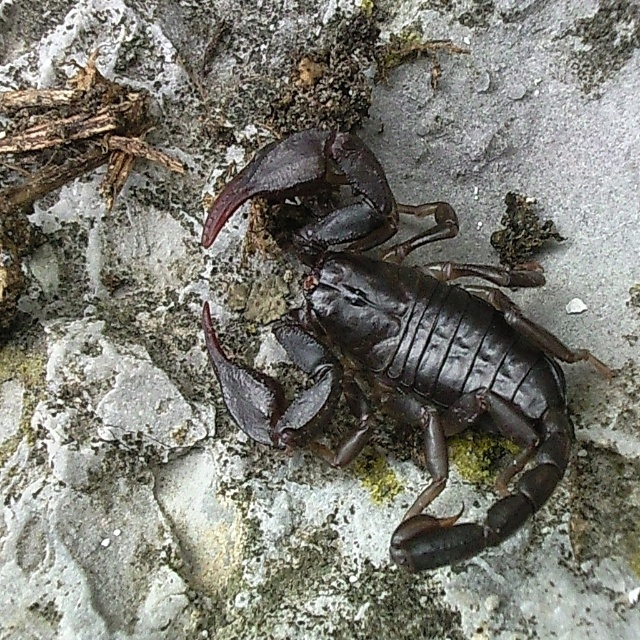Scorpion: (201, 127, 616, 573)
